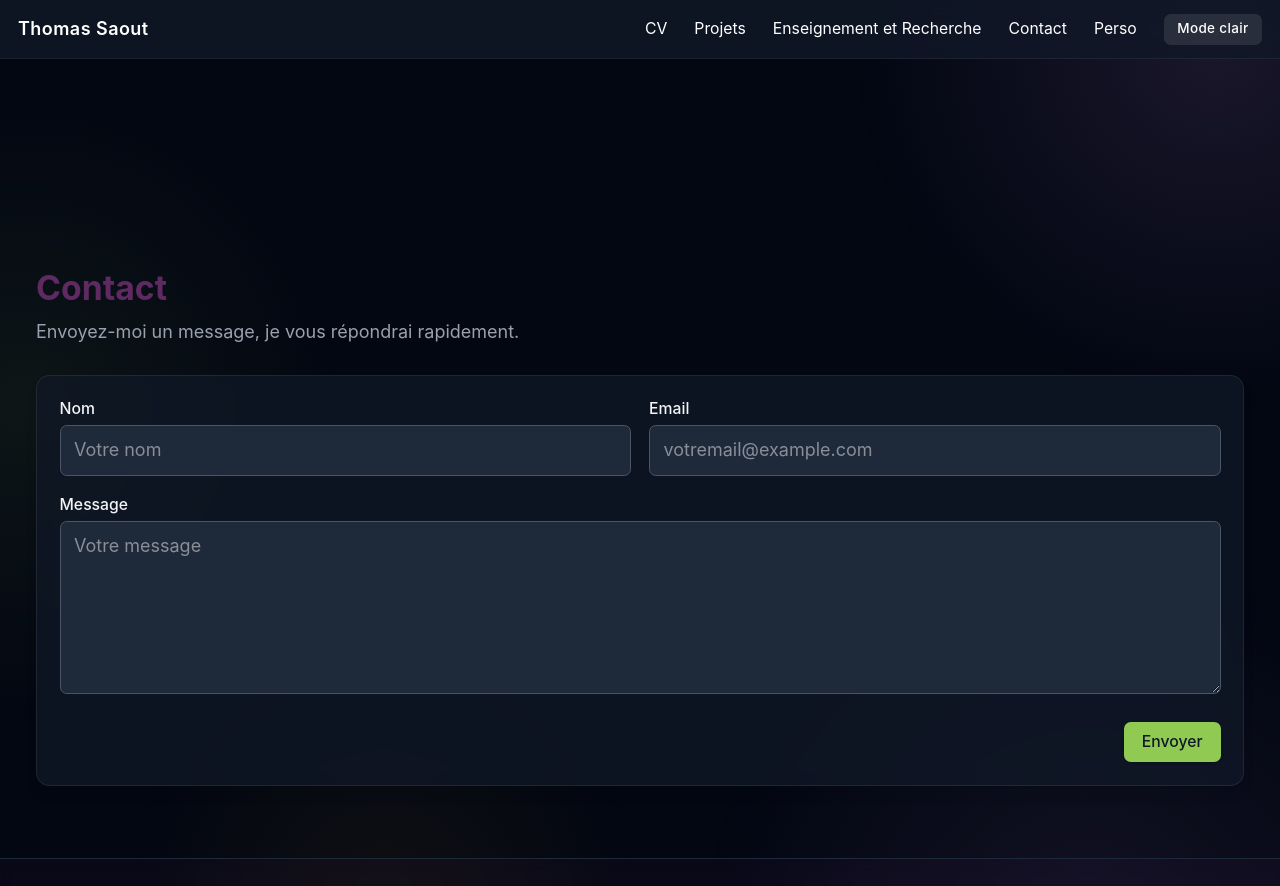
Scenario: SectionContact › disables submit button while loading
(page scrolled)
Type "Dave" into the field with placeholder "Votre nom". click: (345, 451)
box: x1=60 y1=426 x2=631 y2=476
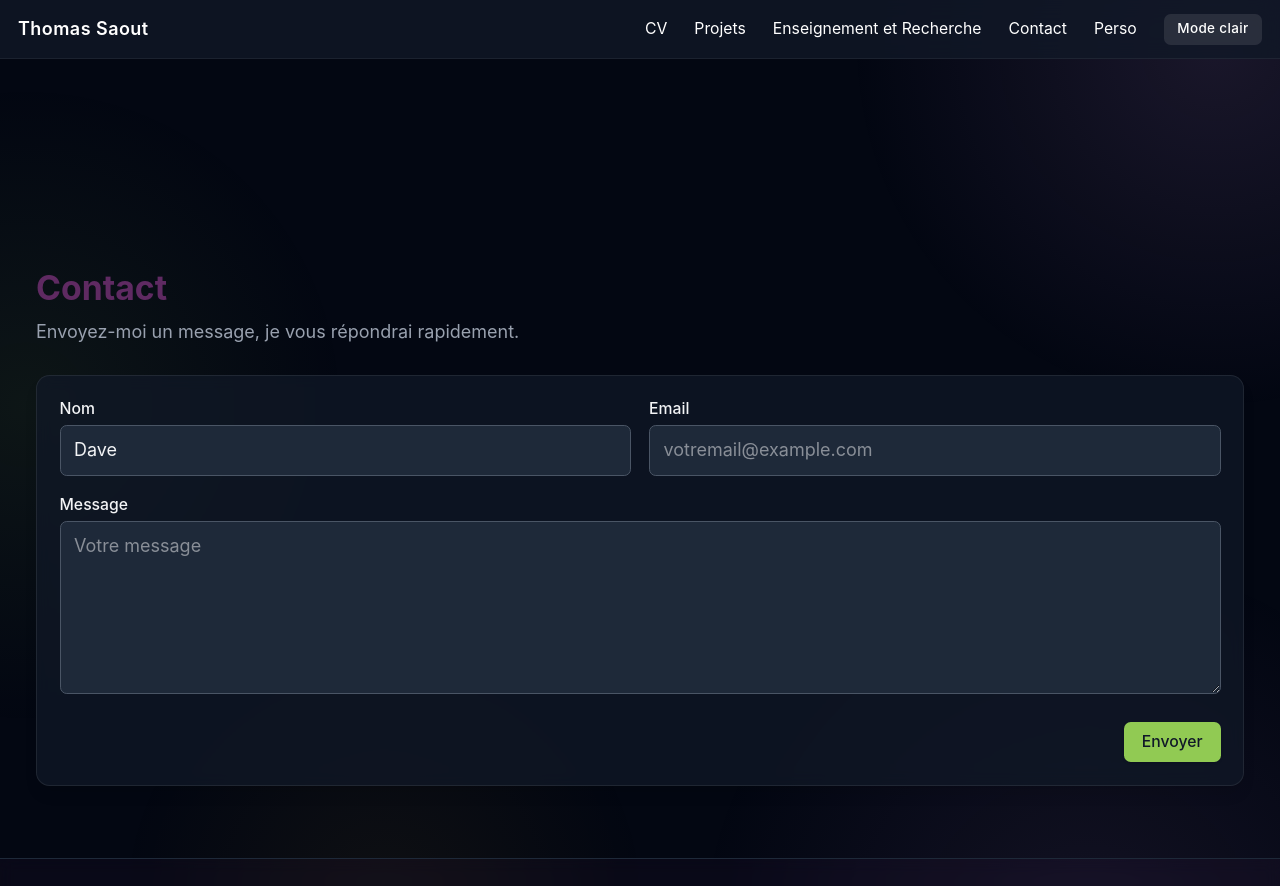
Type "dave@example.com" into the field with placeholder "votremail@example.com". click: (935, 451)
box: x1=649 y1=426 x2=1220 y2=476
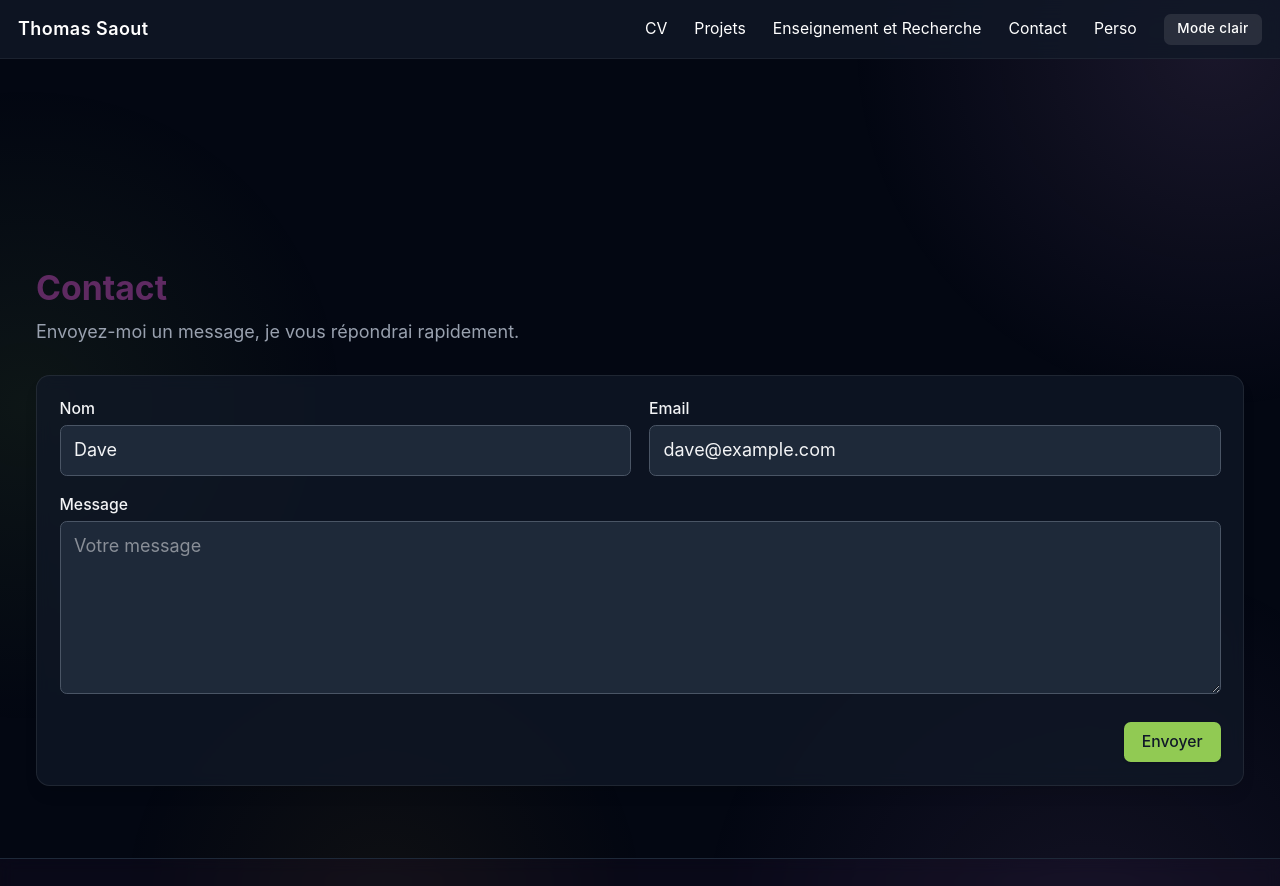
Type "Hey" into the text box with placeholder "Votre message". click: (640, 608)
box: x1=60 y1=521 x2=1220 y2=694
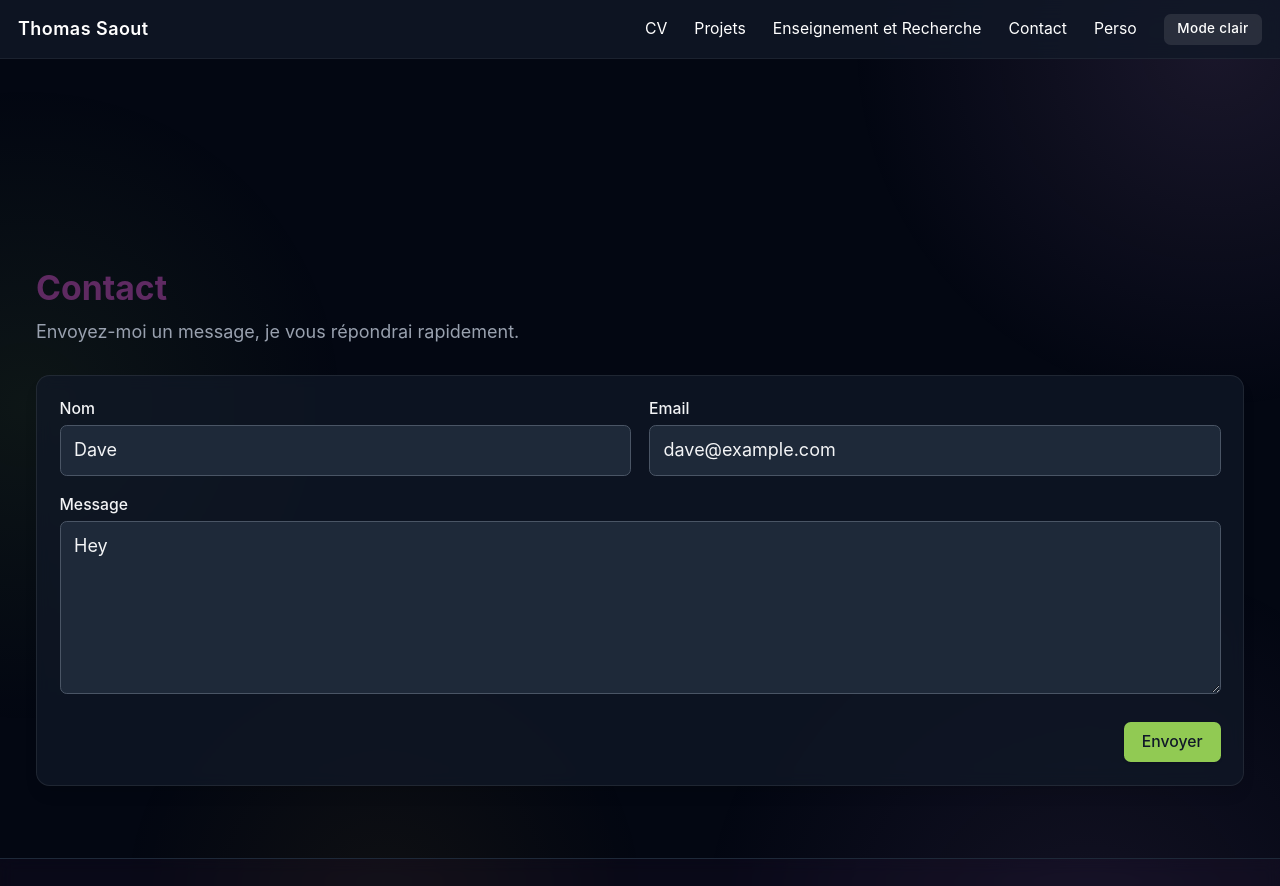
Click the button "Envoyer". click: (1172, 742)
box: x1=1124 y1=722 x2=1220 y2=762
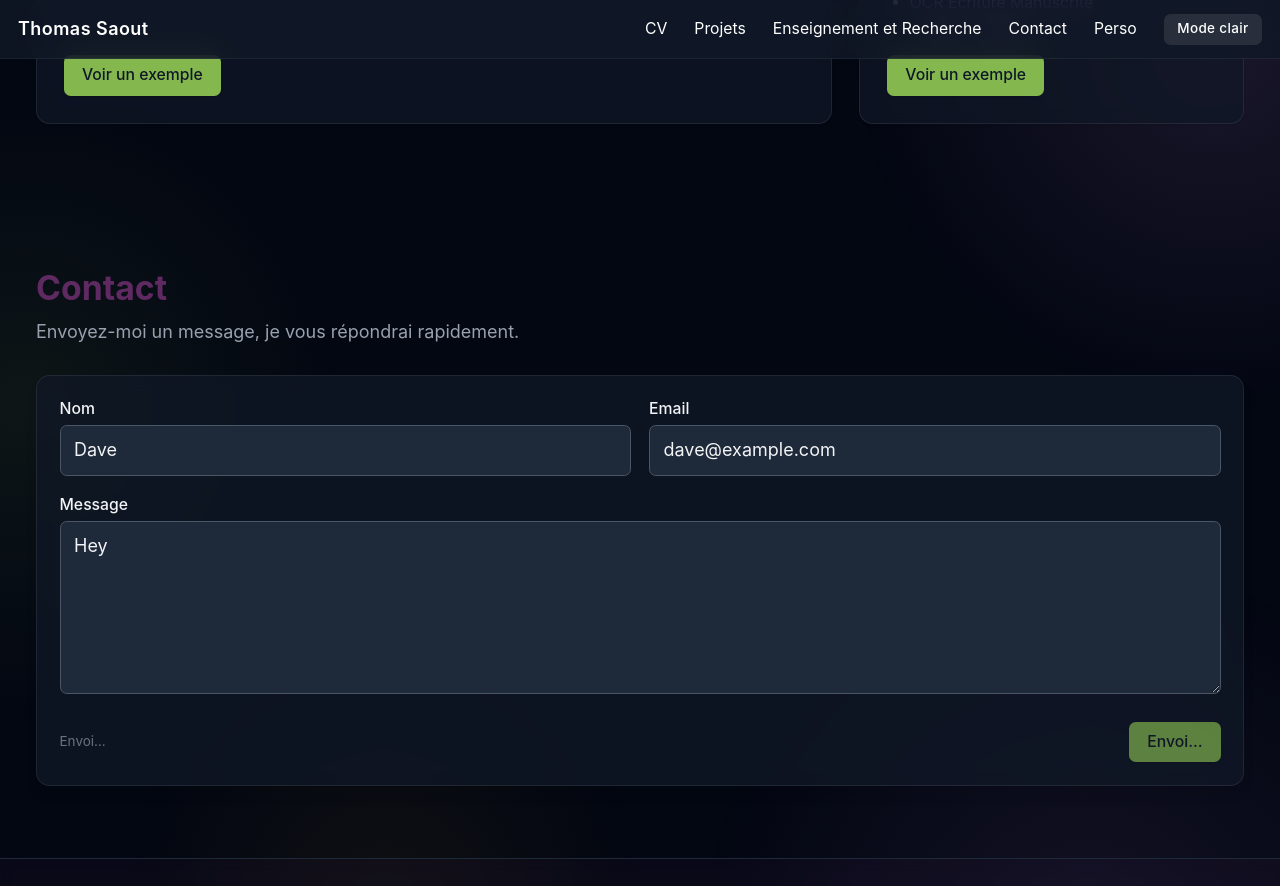
Expected: the button "Envoi…" is disabled, x1=1129 y1=722 x2=1220 y2=762
